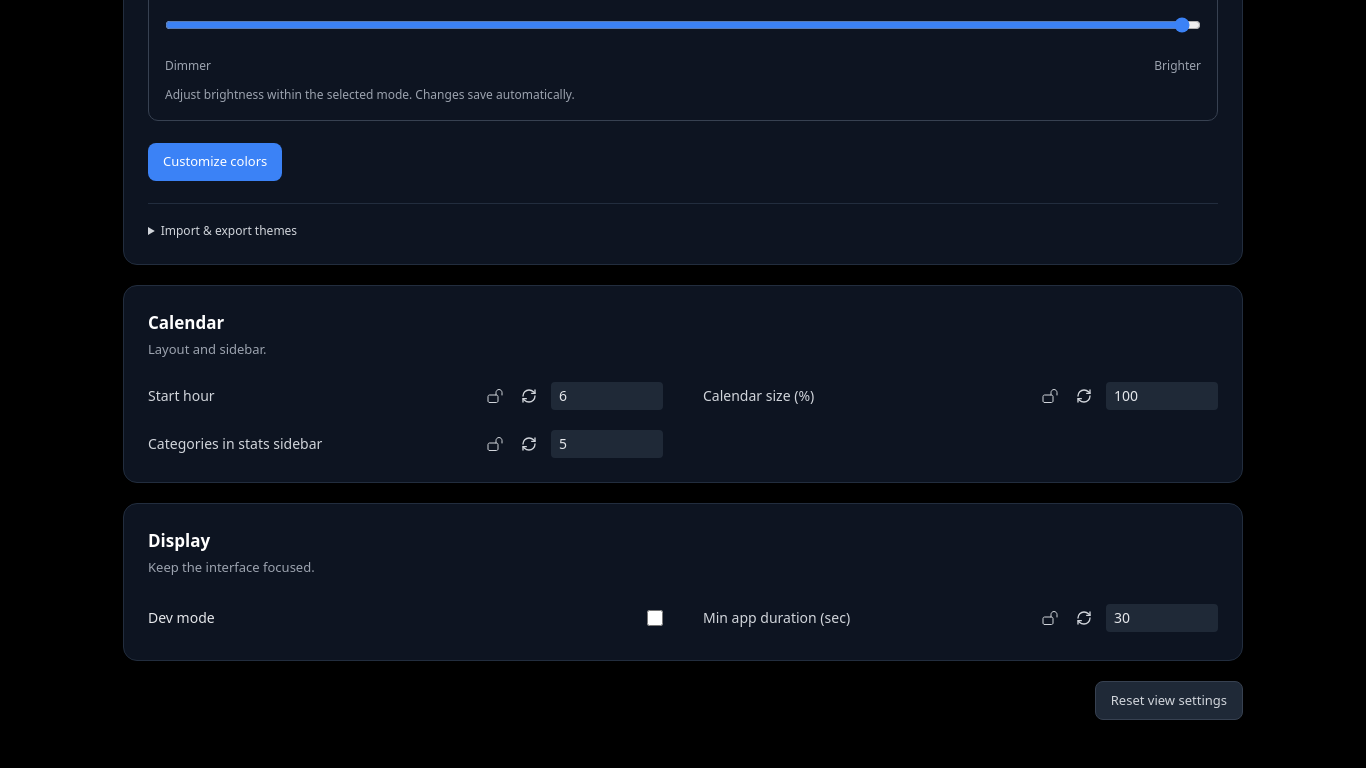
Test case: browser Settings loads without native-only requests and supports Notes and numeric settings
This screenshot has width=1366, height=768.
(page scrolled)
Expected: the number field in the row of "Start hour" holds "6", [551,382,663,410]
Click the checkbox named "Enable dev mode": {"x": 655, "y": 618} [647,610,663,626]
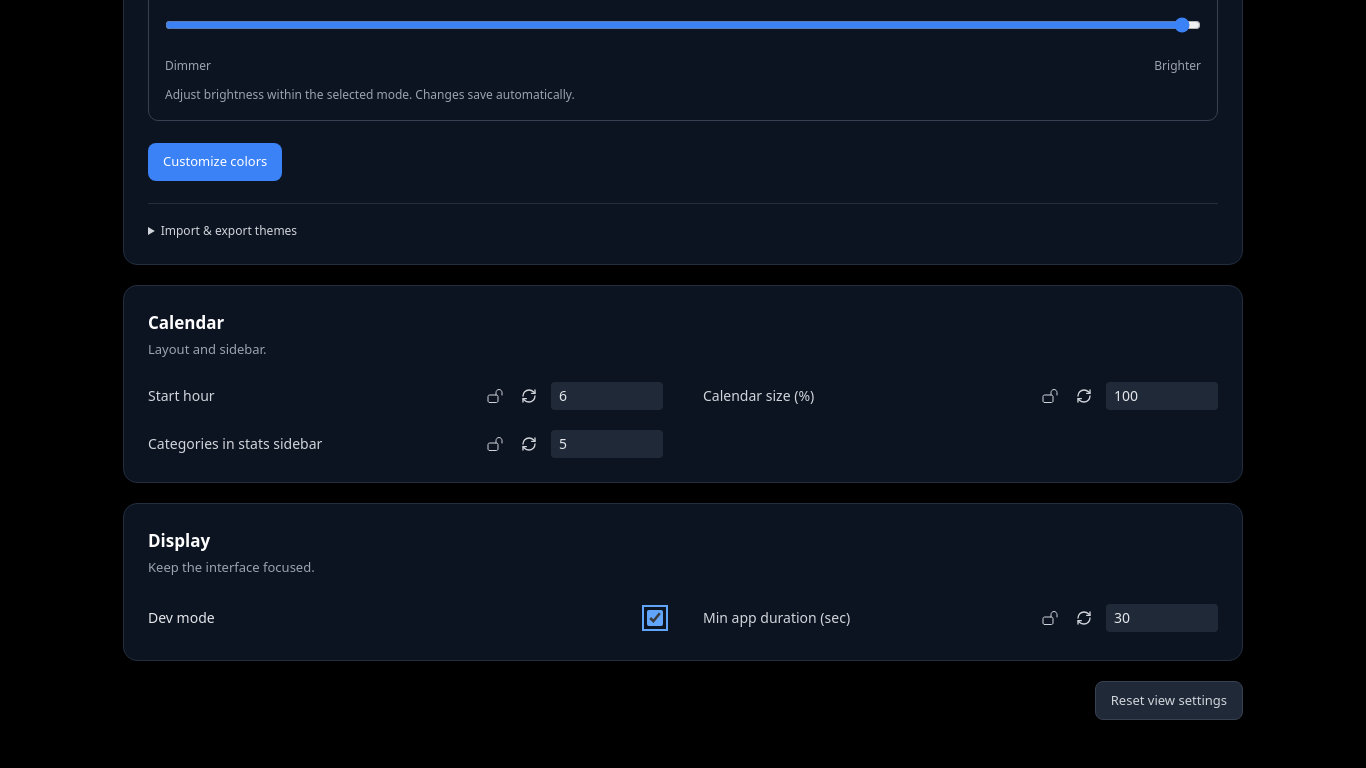
Replace the text in the number field in the row of "Start hour" with "7": {"x": 607, "y": 396} [551,382,663,410]
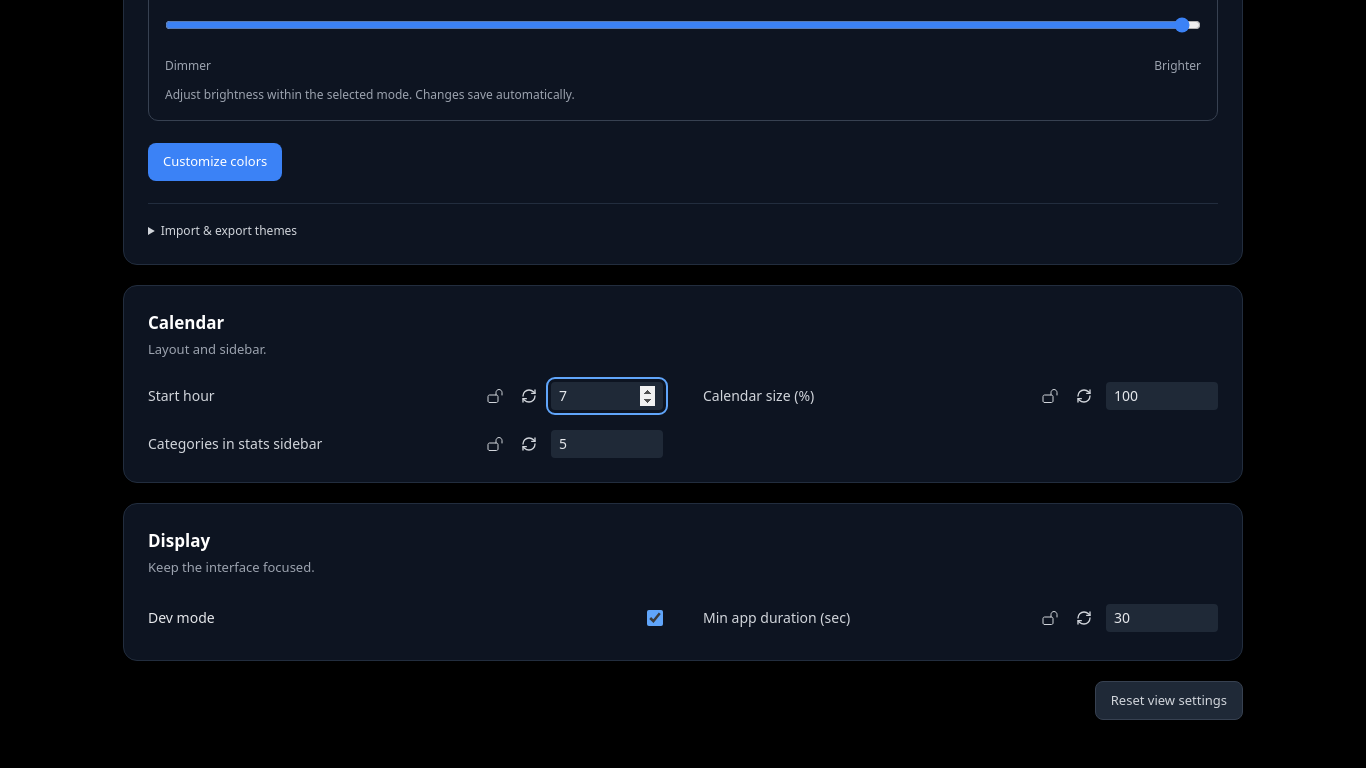
Press Tab
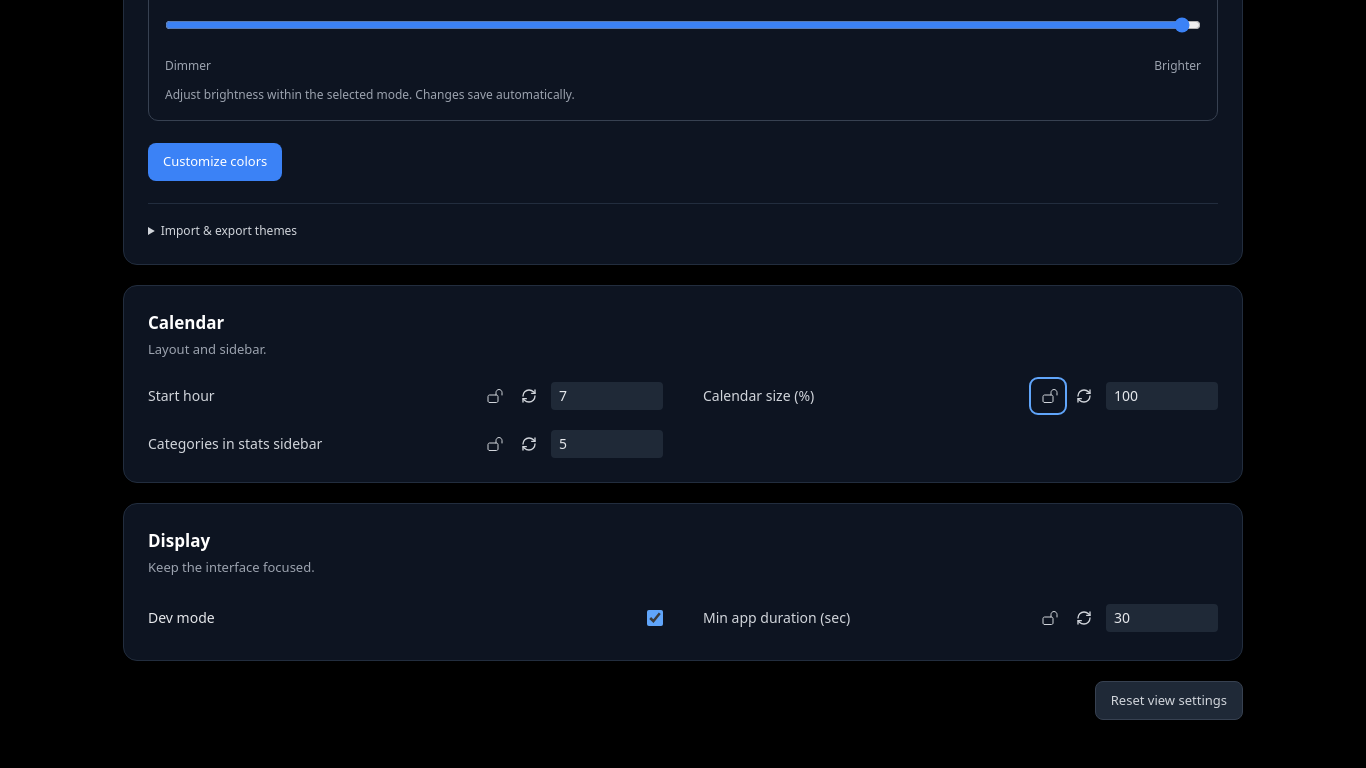
Click the button named "Lock" in the row of "Start hour": {"x": 493, "y": 396} [479,382,507,410]
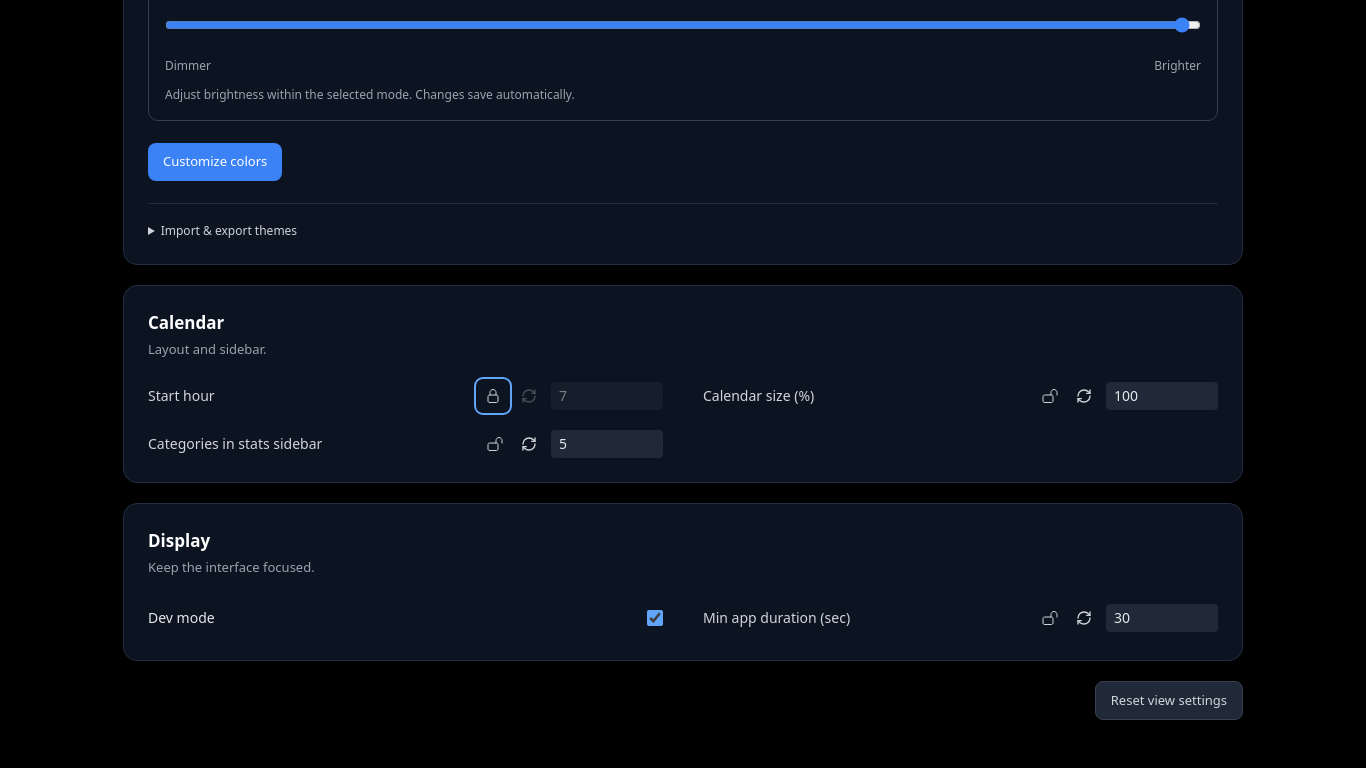
Now the number field in the row of "Start hour" is disabled, box [551,382,663,410]
Click the button named "Unlock": {"x": 493, "y": 396} [479,382,507,410]
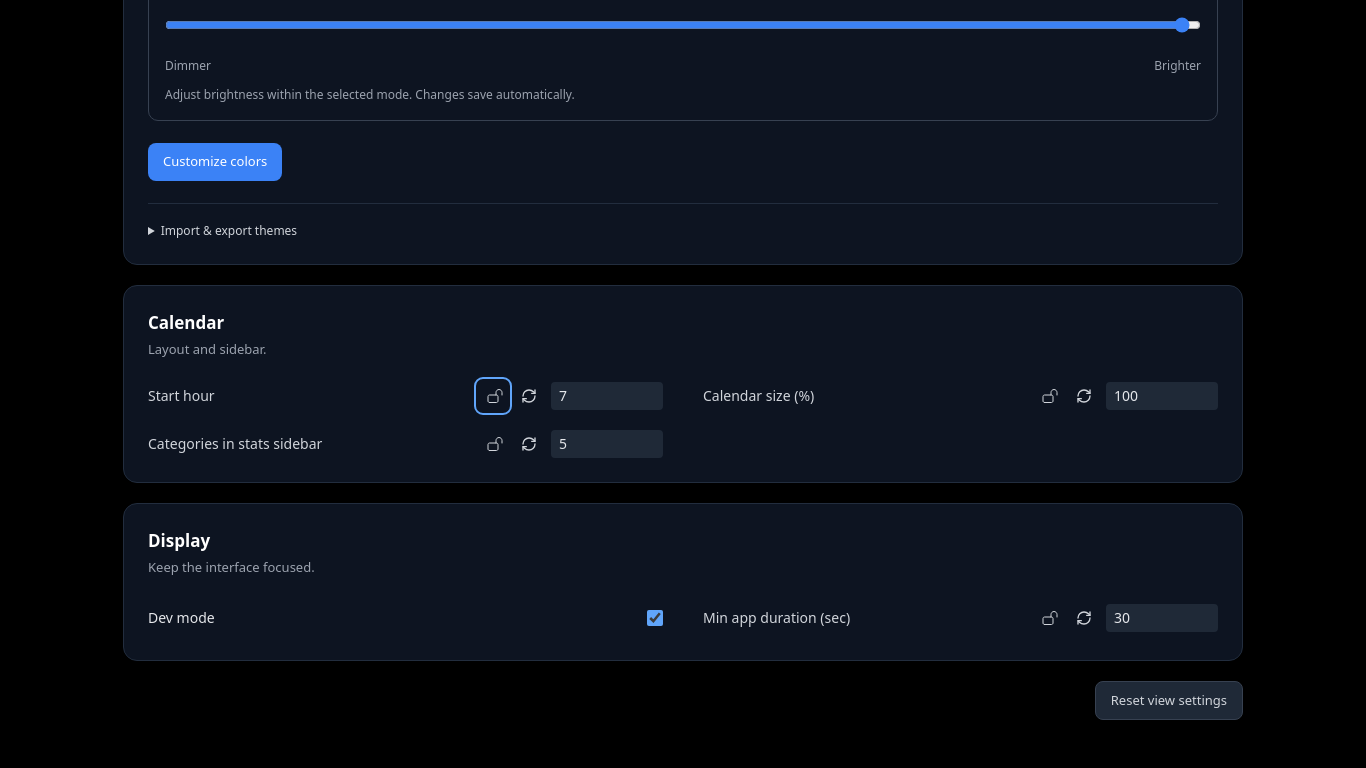
Now the number field in the row of "Start hour" is enabled, box [551,382,663,410]
Click the button named "Reset to default" in the row of "Start hour": {"x": 529, "y": 396} [515,382,543,410]
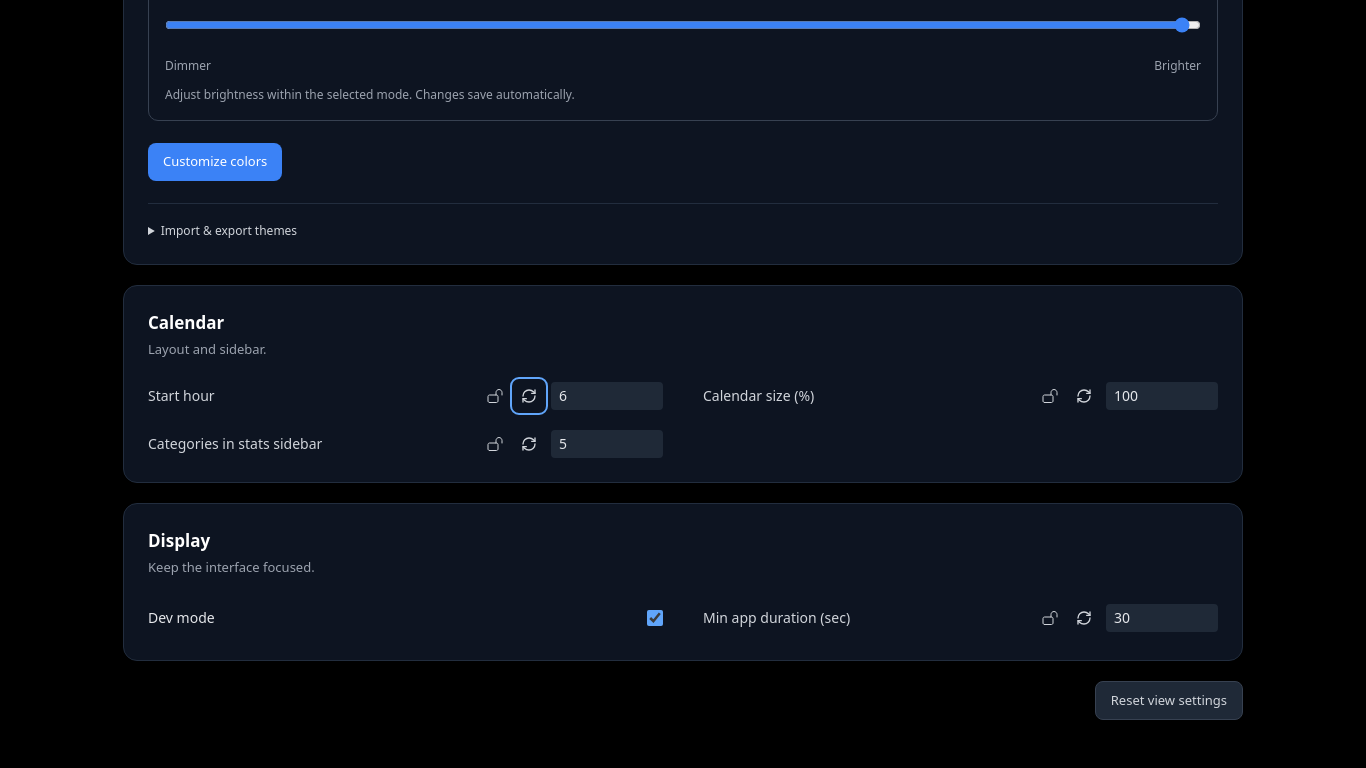
Now the number field in the row of "Start hour" holds "6", box [551,382,663,410]
